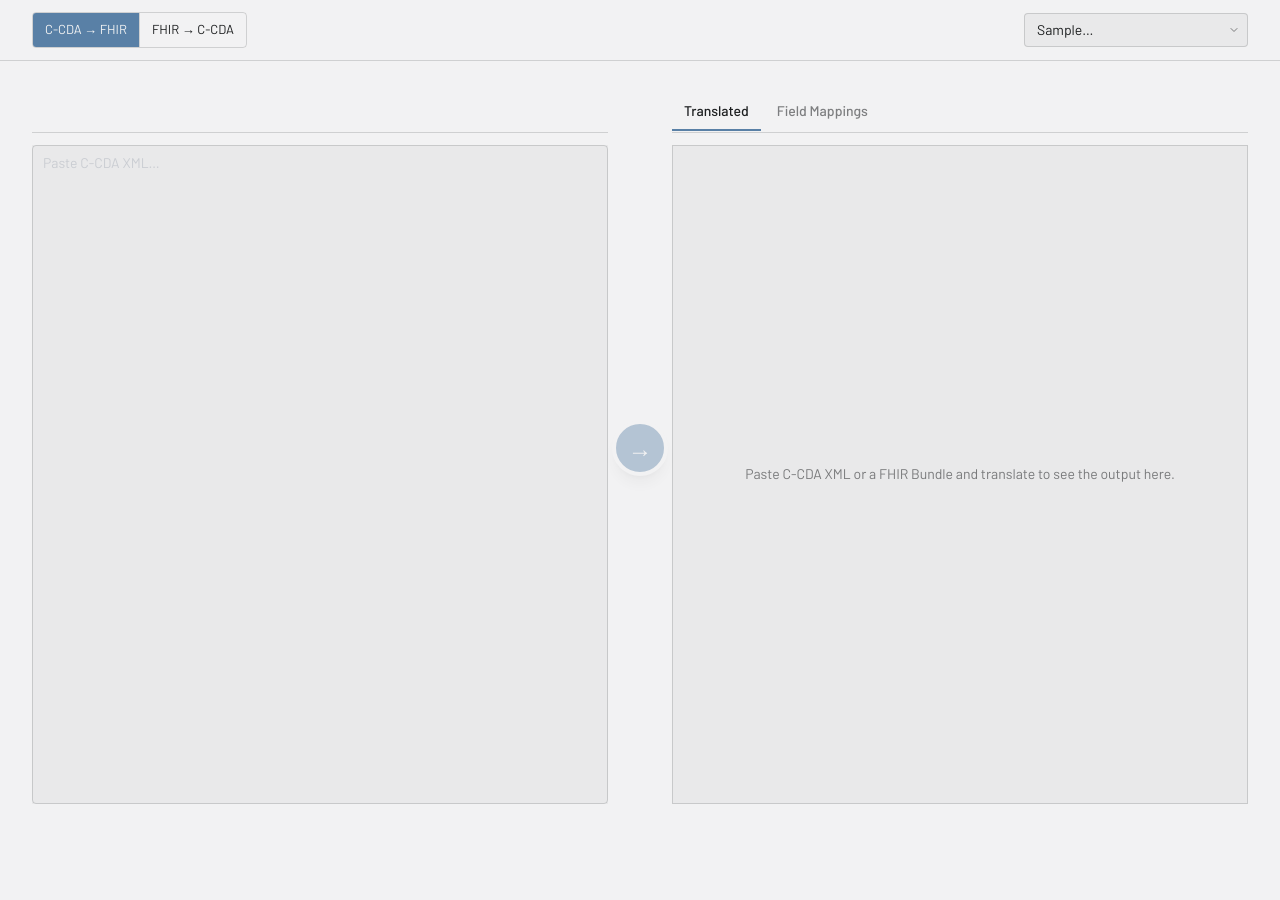
it: Translator (integration — real cdaToFhir/fhirToCda logic, not mocked) › translates the sample CCD to a FHIR Bundle when Translate is clicked
The width and height of the screenshot is (1280, 900).
In the text box: (320, 474) [32,144,608,804], type "<!-- SYNTHETIC DATA ONLY — NOT REAL PHI --> <ClinicalDocument xmlns=\"urn:hl7-org:v3\">   <code code=\"34133-9\" codeSystem=\"2.16.840.1.113883.6.1\" displayName=\"Summarization of episode note\"/>   <effecti"
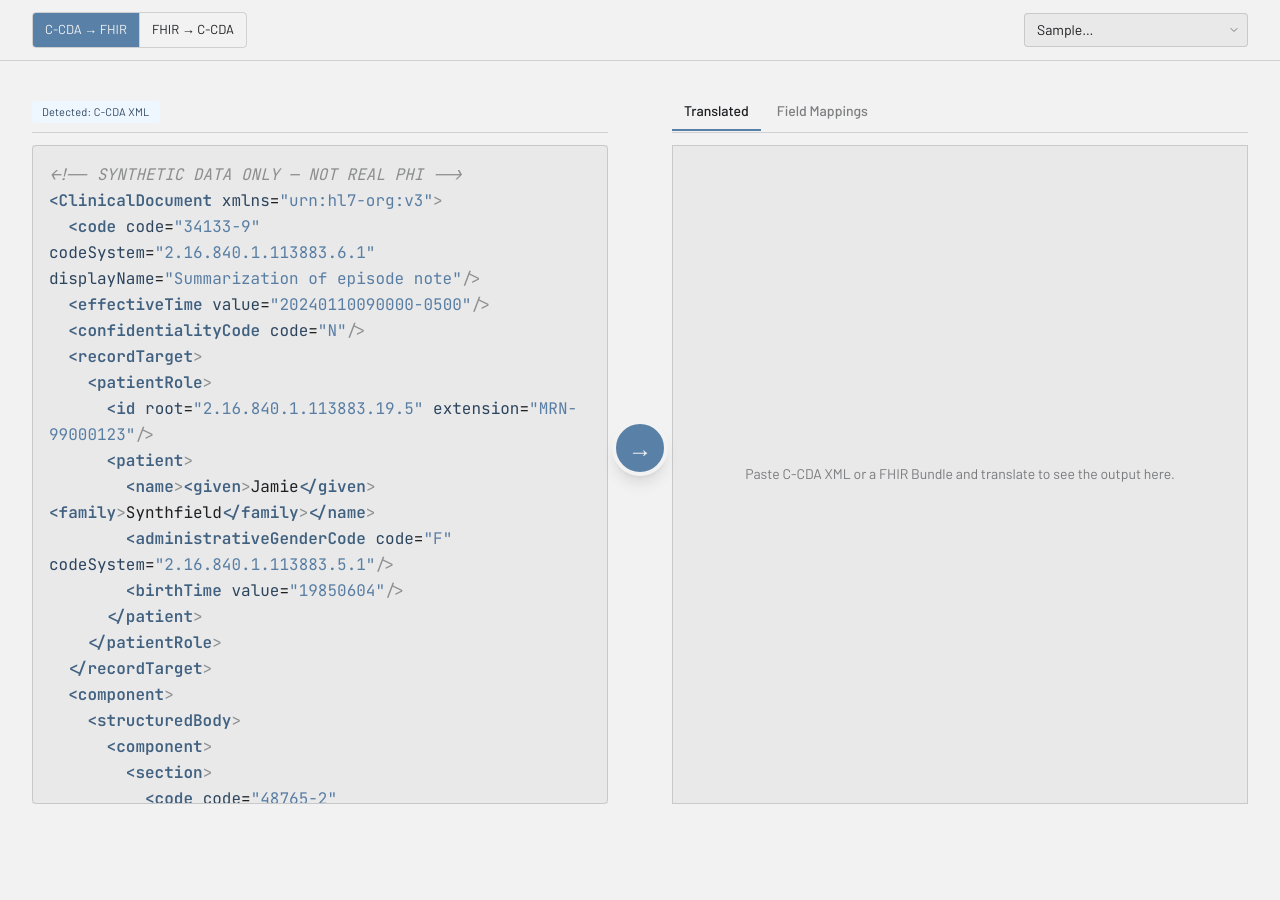
Click the button named "Translate": (640, 448) [612,420,668,476]
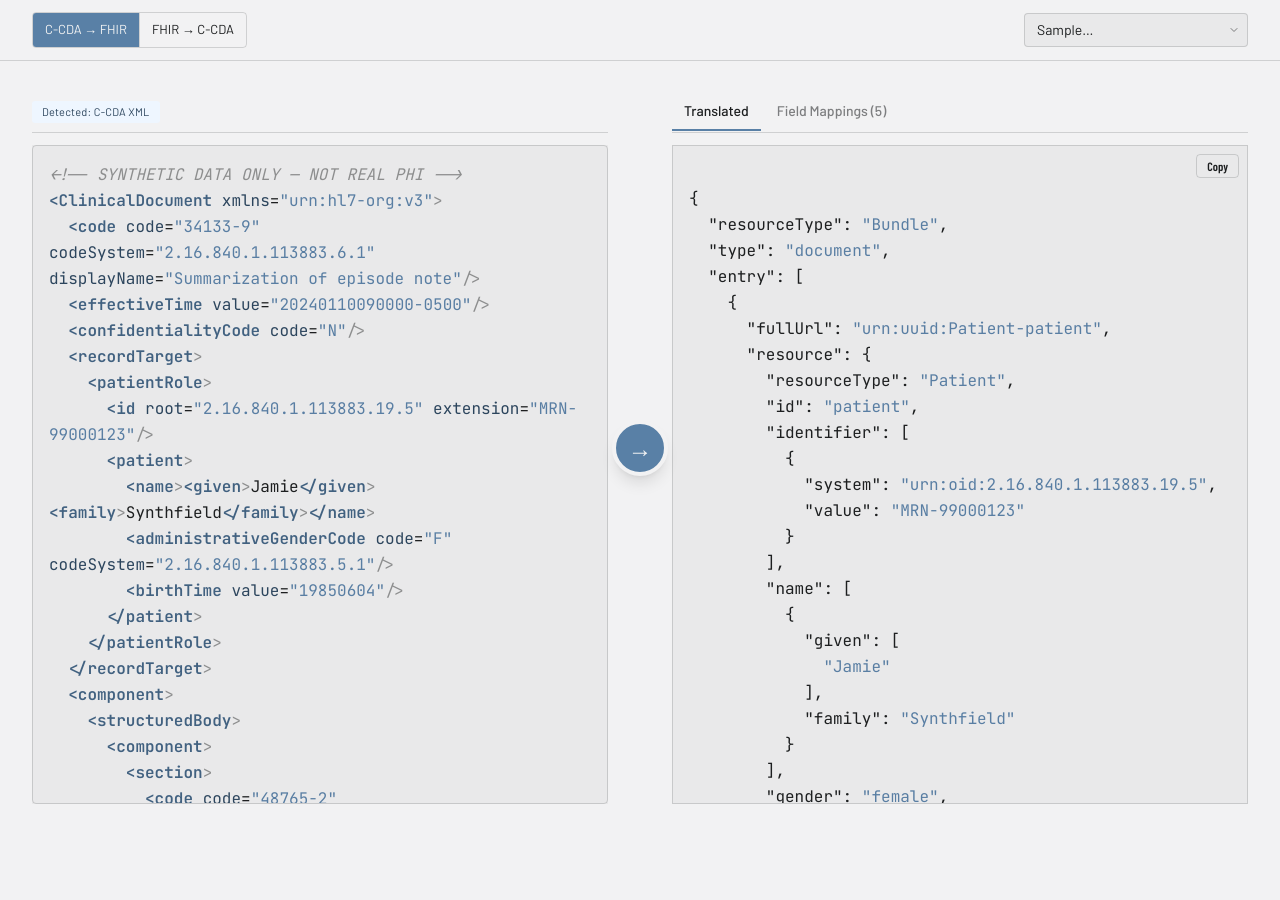
Now the 1st text "\"resourceType\":" is shown, box [708,214,852,235]
Now the text "\"Bundle\"" is shown, box [862,214,939,235]
